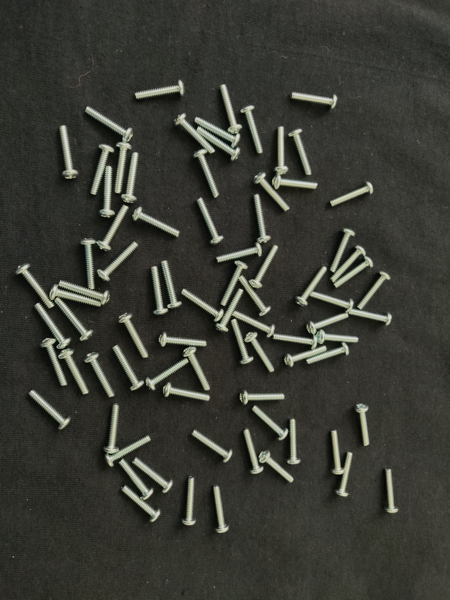longscrew: (25, 387, 73, 433), (82, 106, 134, 143), (15, 262, 55, 310), (173, 112, 216, 156), (32, 302, 72, 349), (97, 240, 140, 283), (54, 297, 95, 342), (117, 484, 162, 524), (83, 351, 118, 400), (110, 343, 144, 393), (56, 346, 90, 396), (104, 433, 152, 468), (193, 115, 242, 149), (38, 337, 70, 389), (179, 287, 225, 323), (252, 172, 292, 213), (131, 457, 174, 495), (117, 458, 155, 501), (195, 126, 243, 160), (131, 206, 182, 238), (189, 427, 234, 463), (96, 203, 129, 252), (294, 263, 329, 309), (116, 313, 150, 360), (145, 356, 191, 390), (237, 273, 273, 316), (218, 259, 250, 307), (181, 345, 213, 393), (357, 268, 392, 311), (244, 331, 277, 376), (87, 143, 115, 196), (330, 244, 367, 284), (250, 405, 290, 442), (191, 149, 220, 200), (249, 243, 281, 289), (57, 278, 111, 305), (195, 196, 224, 246), (333, 255, 375, 289), (216, 287, 246, 333), (327, 227, 357, 273), (329, 180, 376, 209), (229, 310, 276, 339), (239, 104, 265, 156), (57, 123, 80, 181), (306, 308, 352, 337), (257, 449, 295, 484), (218, 82, 244, 133), (133, 78, 188, 102), (288, 127, 314, 177), (230, 316, 256, 366), (287, 89, 340, 112), (159, 259, 183, 309), (48, 285, 101, 307), (284, 343, 330, 368), (79, 235, 99, 292), (242, 427, 265, 476), (306, 342, 351, 367), (162, 381, 213, 403), (121, 151, 142, 204), (113, 140, 133, 195), (149, 263, 169, 318), (102, 402, 122, 457), (216, 241, 265, 263), (309, 289, 355, 312), (333, 451, 355, 499), (97, 164, 116, 219), (252, 193, 272, 245), (381, 465, 401, 516), (211, 484, 231, 534), (273, 123, 291, 178), (156, 332, 210, 350), (354, 402, 374, 450), (181, 475, 198, 528), (347, 307, 394, 326), (272, 331, 321, 349), (271, 173, 319, 191), (237, 389, 286, 406), (329, 427, 346, 475), (315, 329, 360, 347), (287, 417, 303, 467)
